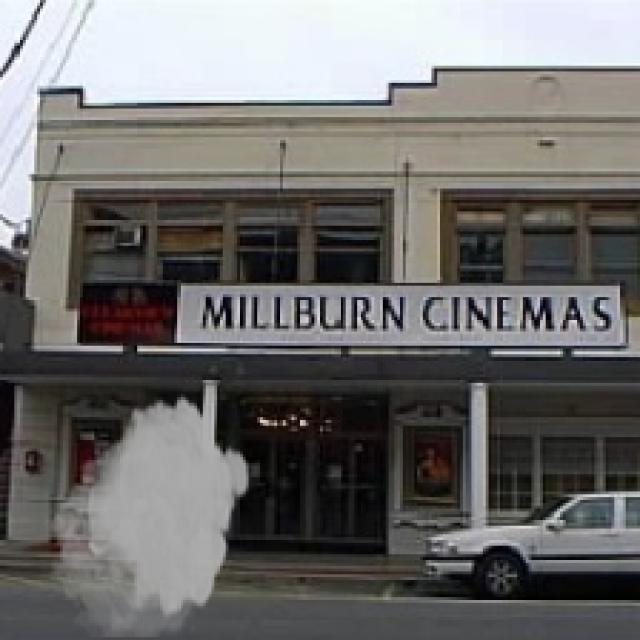Smoke: (42, 392, 252, 637)
